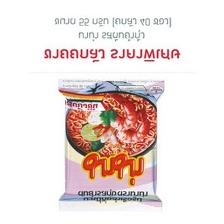snack: (47, 72, 171, 220)
